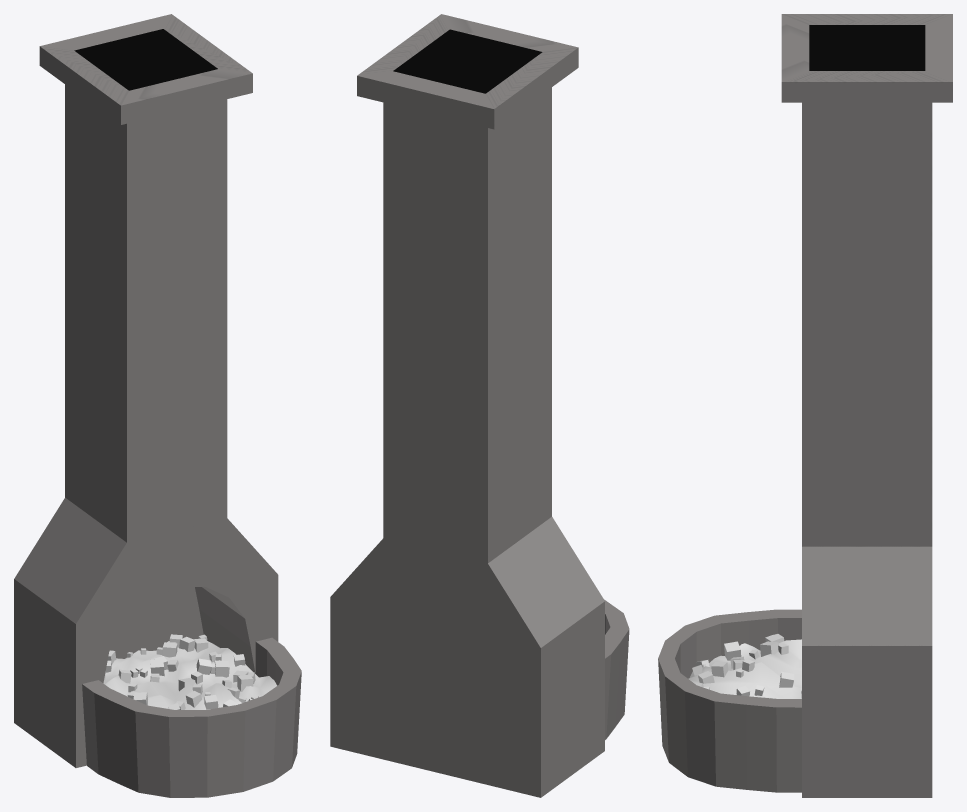
File: furnace.fbx
3 renders of one model, left to right at view 1: azimuth 30°, elevation 25°; view 2: azimuth 150°, elevation 25°; view 3: azimuth 270°, elevation 25°, orthographic. The views are drawn at different scales.
Parts seen in each view (by area): view 1: furnace, dust, coals; view 2: furnace; view 3: furnace, dust, coals.
Part boxes in pixels (bbox=[...]): furnace: bbox=[14, 14, 301, 797]; dust: bbox=[103, 641, 277, 709]; coals: bbox=[104, 634, 262, 709]; furnace: bbox=[330, 14, 629, 797]; furnace: bbox=[658, 14, 952, 797]; dust: bbox=[688, 639, 801, 698]; coals: bbox=[692, 634, 801, 698].
Bounding box in the file's own units: 305 × 952 × 364.
